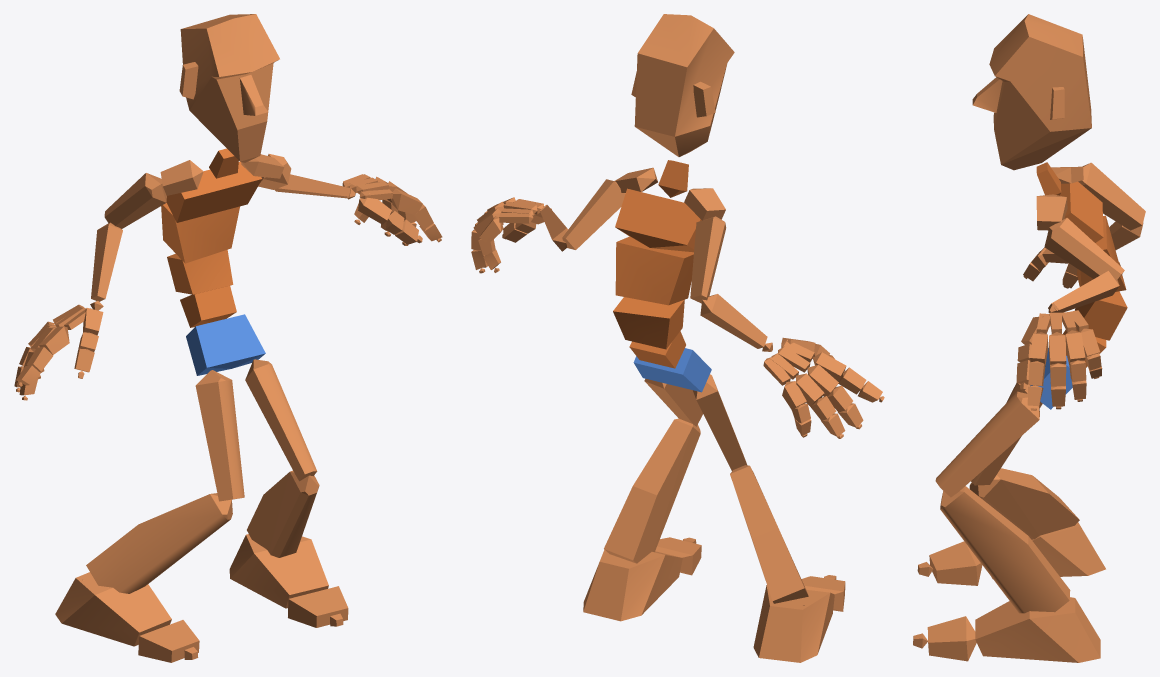
The model's file is prueba112.obj.
The picture shows the model from 3 angles, left to right: view 1: azimuth 30°, elevation 25°; view 2: azimuth 150°, elevation 25°; view 3: azimuth 270°, elevation 25°; orthographic projection. The views are drawn at different scales.
Visible parts, largest first — view 1: BOPED_Head, BOPED_R_leg, BOPED_R_foot, BOPED_R_foot01, BOPED_R_legup, BOPED_L_leg, Bone01, BOPED_L_legup, Bone04, Bone05, Bone03, BOPED_R_arm_upper (+8 smaller); view 2: BOPED_Head, BOPED_L_leg, BOPED_R_foot01, BOPED_R_foot, BOPED_R_leg, Bone04, Bone05, Bone03, BOPED_R_arm_upper, BOPED_R_legup, BOPED_L_arm_upper, Bone01 (+9 smaller); view 3: BOPED_Head, BOPED_L_leg, BOPED_R_foot01, BOPED_R_leg, BOPED_L_legup, BOPED_R_foot, BOPED_L_arm_upper, BOPED_R_arm_upper, BOPED_R_foot_toe01, BOPED_R_foot_toe04, Bone05, Bone03 (+14 smaller).
Boxes of the visible parts, bbox=[...] form: BOPED_Head: bbox=[179, 14, 279, 162]; BOPED_R_leg: bbox=[86, 493, 232, 593]; BOPED_R_foot: bbox=[55, 572, 171, 646]; BOPED_R_foot01: bbox=[229, 534, 328, 608]; BOPED_R_legup: bbox=[195, 370, 244, 501]; BOPED_L_leg: bbox=[247, 470, 319, 557]; Bone01: bbox=[186, 314, 265, 375]; BOPED_L_legup: bbox=[245, 359, 317, 481]; Bone04: bbox=[161, 203, 239, 263]; Bone05: bbox=[166, 161, 261, 222]; Bone03: bbox=[167, 249, 233, 294]; BOPED_R_arm_upper: bbox=[104, 173, 166, 228]; BOPED_Head: bbox=[631, 14, 734, 156]; BOPED_L_leg: bbox=[604, 418, 700, 563]; BOPED_R_foot01: bbox=[583, 550, 682, 621]; BOPED_R_foot: bbox=[753, 585, 834, 662]; BOPED_R_leg: bbox=[730, 465, 808, 603]; Bone04: bbox=[615, 236, 693, 305]; Bone05: bbox=[615, 188, 701, 252]; Bone03: bbox=[613, 297, 684, 349]; BOPED_R_arm_upper: bbox=[690, 216, 726, 303]; BOPED_R_legup: bbox=[693, 374, 746, 470]; BOPED_L_arm_upper: bbox=[562, 179, 625, 249]; Bone01: bbox=[633, 348, 711, 392]; BOPED_Head: bbox=[972, 14, 1091, 170]; BOPED_L_leg: bbox=[940, 486, 1070, 613]; BOPED_R_foot01: bbox=[975, 597, 1100, 662]; BOPED_R_leg: bbox=[969, 468, 1079, 539]; BOPED_L_legup: bbox=[935, 391, 1039, 497]; BOPED_R_foot: bbox=[991, 522, 1105, 578]; BOPED_L_arm_upper: bbox=[1044, 218, 1124, 279]; BOPED_R_arm_upper: bbox=[1078, 162, 1145, 230]; BOPED_R_foot_toe01: bbox=[929, 541, 982, 585]; BOPED_R_foot_toe04: bbox=[927, 616, 976, 661]; Bone05: bbox=[1060, 181, 1103, 242]; Bone03: bbox=[1075, 291, 1127, 340].
Bounding box in the file's own units: 130 × 175 × 61.29.
